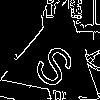S: (30, 35, 84, 92)
